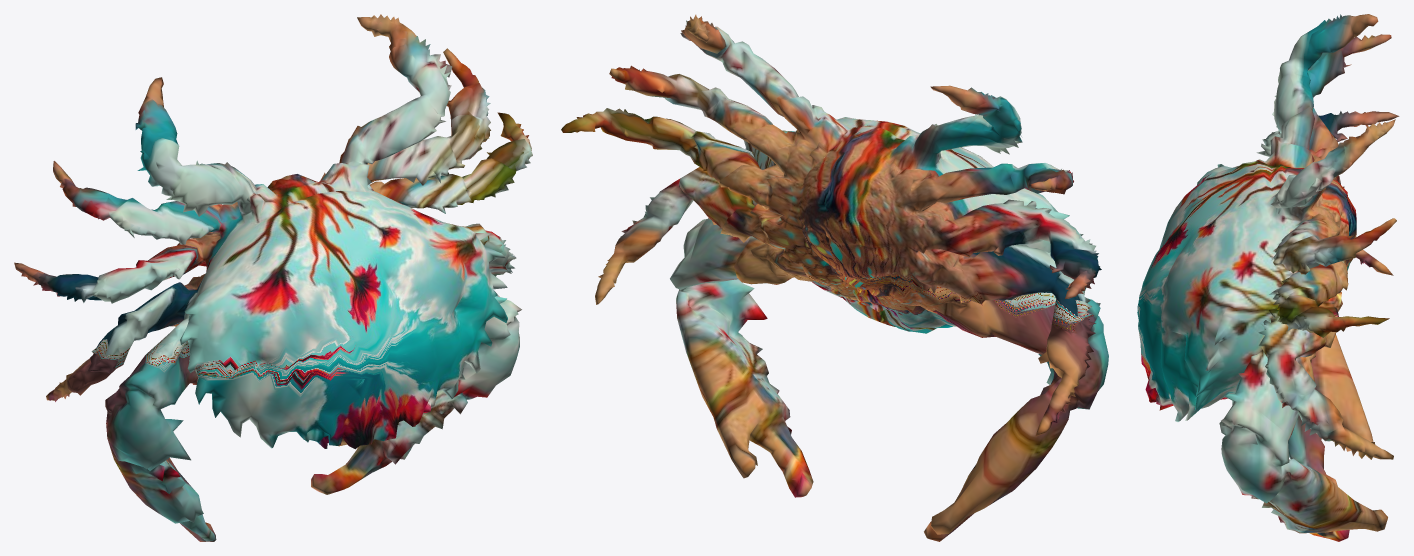
File: tds_dark-finger-reef-crab.glb
3 renders of one model, left to right at view 1: azimuth 30°, elevation 25°; view 2: azimuth 150°, elevation 25°; view 3: azimuth 270°, elevation 25°, orthographic. The views are drawn at different scales.
Visible parts, largest first — view 1: A; view 2: A; view 3: A.
Part boxes in pixels (<box>): A: <box>14,14,532,541</box>; A: <box>561,14,1108,541</box>; A: <box>1137,14,1399,541</box>.
Size of the model in its own units: 2 by 1.8 by 0.9039.
Materials: 1 (1 with a texture image).
